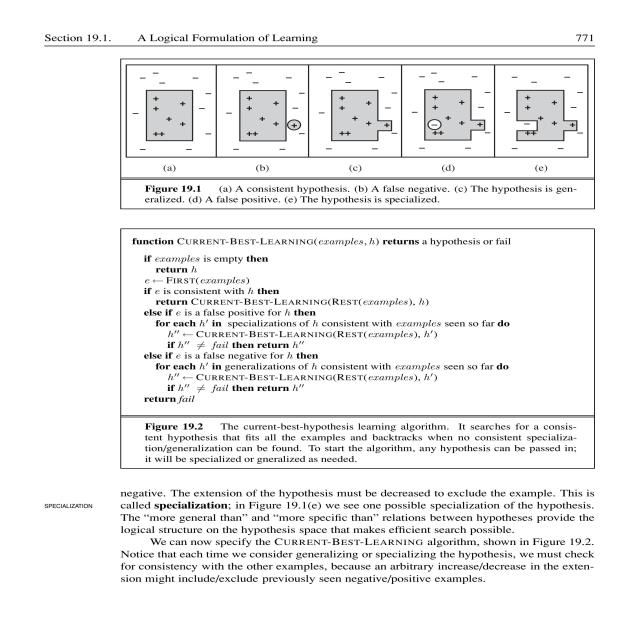diagram: (125, 56, 628, 216)
